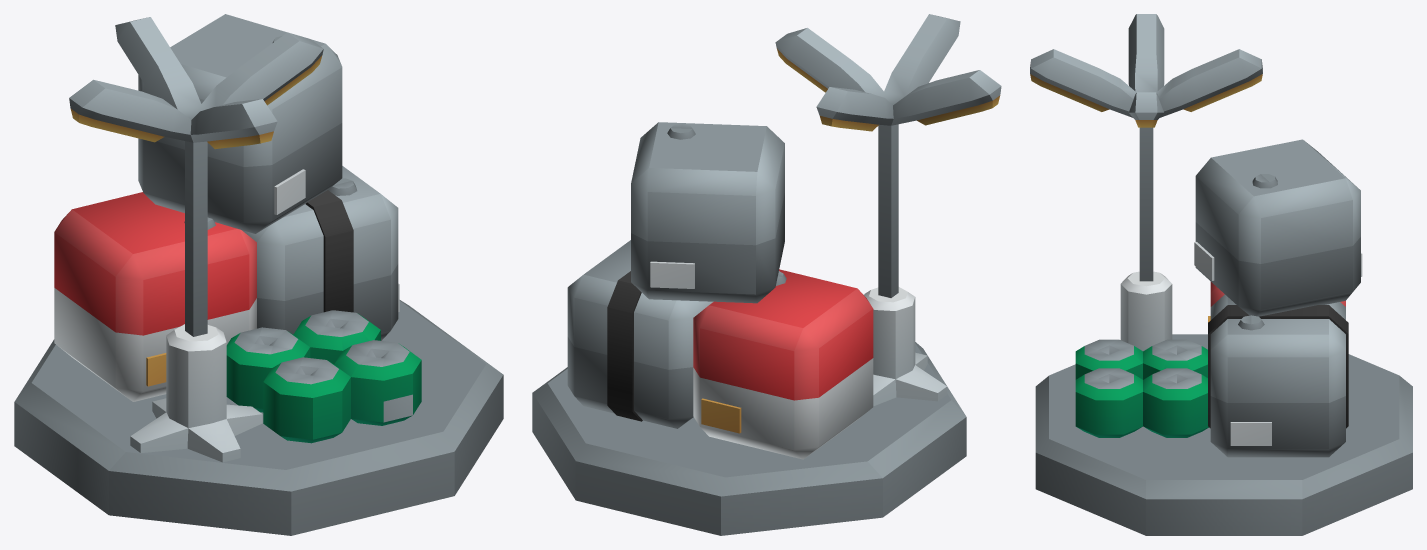
File: WideElectricStation.glb
The picture shows the model from 3 angles, left to right: view 1: azimuth 30°, elevation 25°; view 2: azimuth 150°, elevation 25°; view 3: azimuth 270°, elevation 25°; orthographic projection. The views are drawn at different scales.
Visible parts, largest first — view 1: roofmodule_cargo_B_Cylinder.2712, lights_Cube.15107; view 2: roofmodule_cargo_B_Cylinder.2712, lights_Cube.15107; view 3: roofmodule_cargo_B_Cylinder.2712, lights_Cube.15107.
Boxes of the visible parts, x1,y1,x2,y2 form: roofmodule_cargo_B_Cylinder.2712: (14,14,503,535); lights_Cube.15107: (69,17,323,462); roofmodule_cargo_B_Cylinder.2712: (532,122,966,535); lights_Cube.15107: (775,14,1001,406); roofmodule_cargo_B_Cylinder.2712: (1035,139,1412,535); lights_Cube.15107: (1030,14,1262,351).
Bounding box in the file's own units: 1.52 × 1.46 × 1.42.
Materials: 2 (2 with a texture image).
